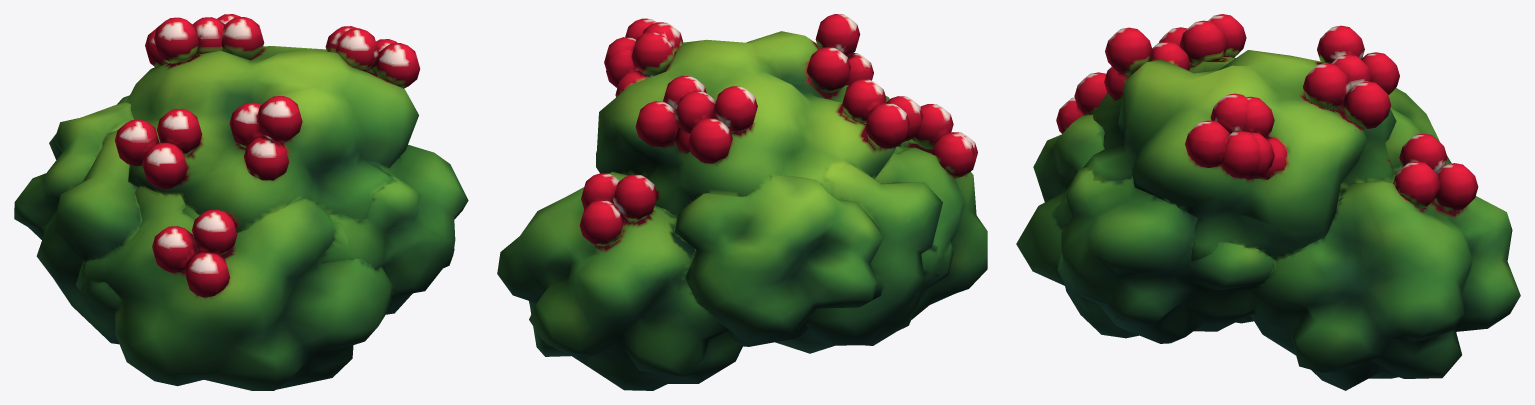
Rendered from berry_bush.glb.
3 renders of one model, left to right at view 1: azimuth 30°, elevation 25°; view 2: azimuth 150°, elevation 25°; view 3: azimuth 270°, elevation 25°, orthographic. The views are drawn at different scales.
Visible parts, largest first — view 1: berry_bush; view 2: berry_bush; view 3: berry_bush.
Boxes of the visible parts, x1,y1,x2,y2 form: berry_bush: (14,14,468,390); berry_bush: (497,14,987,390); berry_bush: (1016,14,1520,390).
Size of the model in its own units: 1.49 by 1.19 by 1.78.
1 material, 1 textured.
